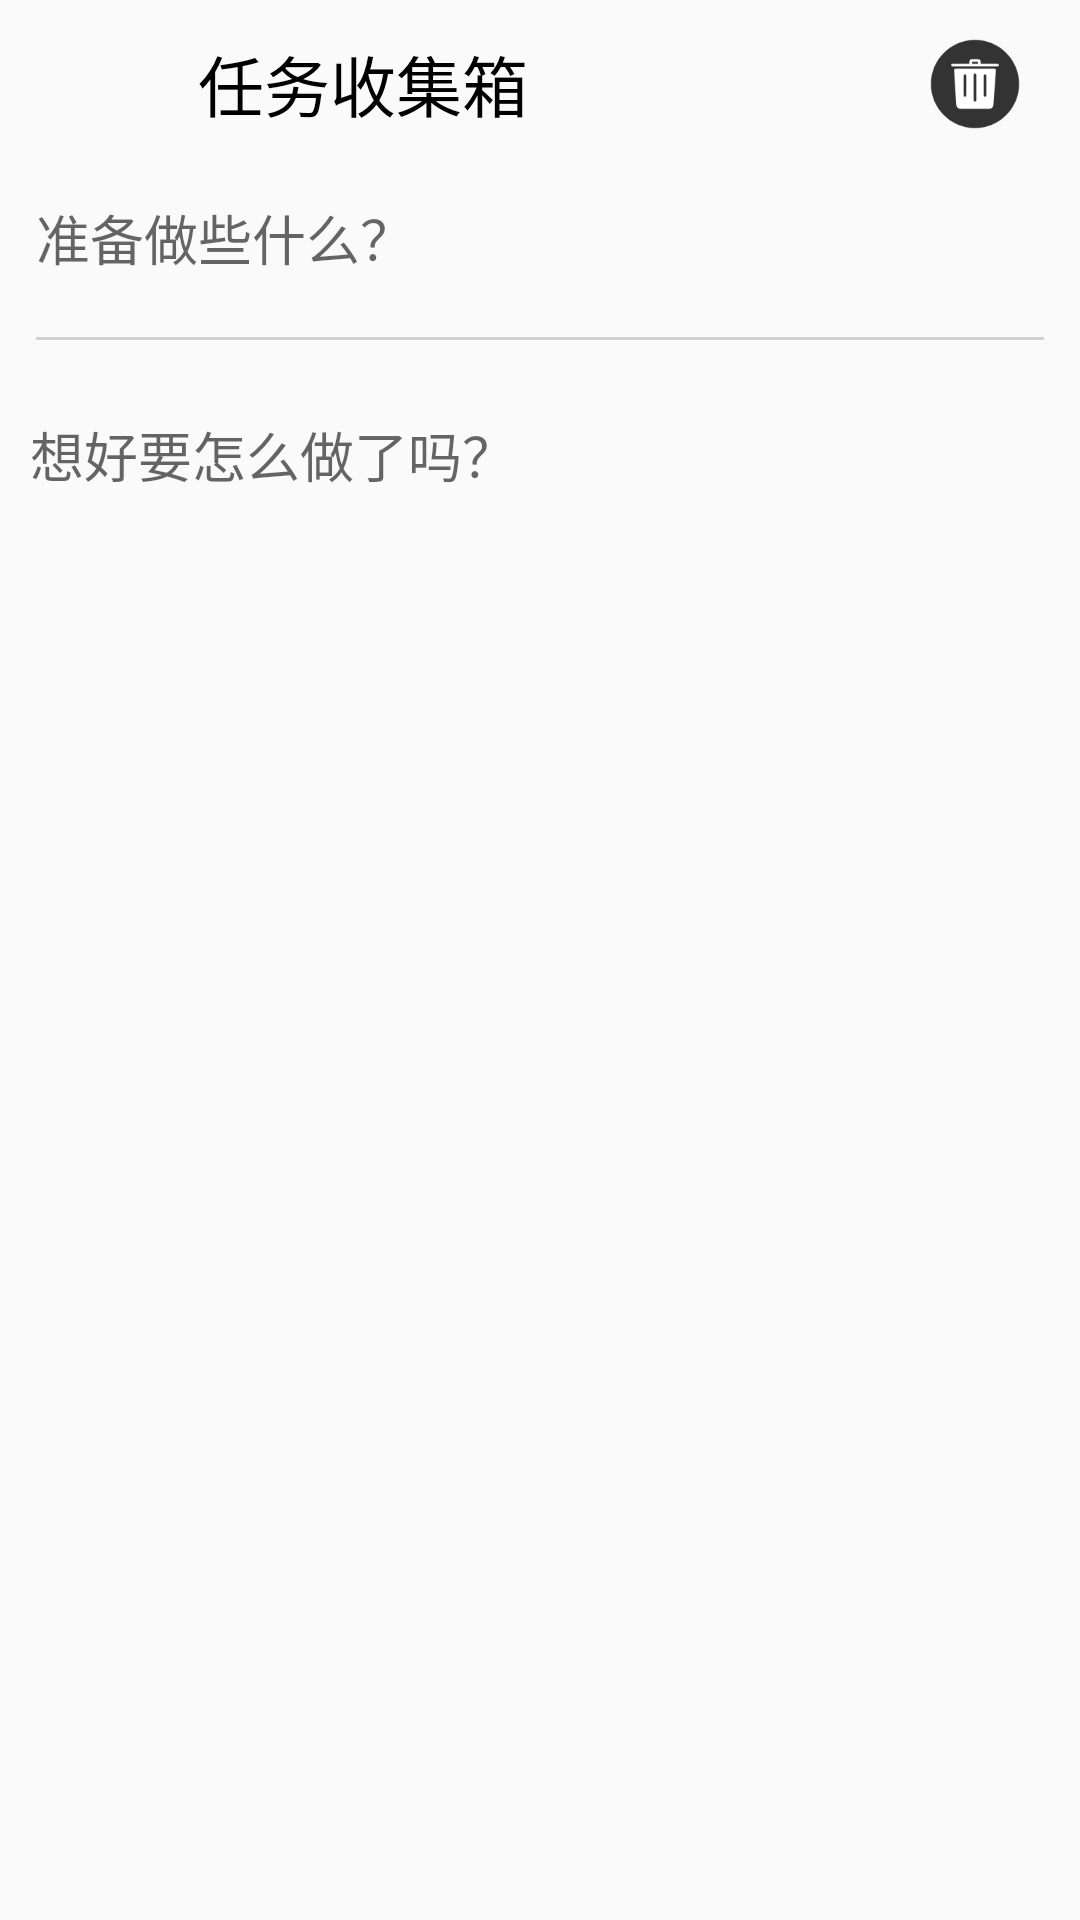

Screen size 1080x1920. Icon name, then its center in pixels as point (x, y):
remove: point (975, 84)
